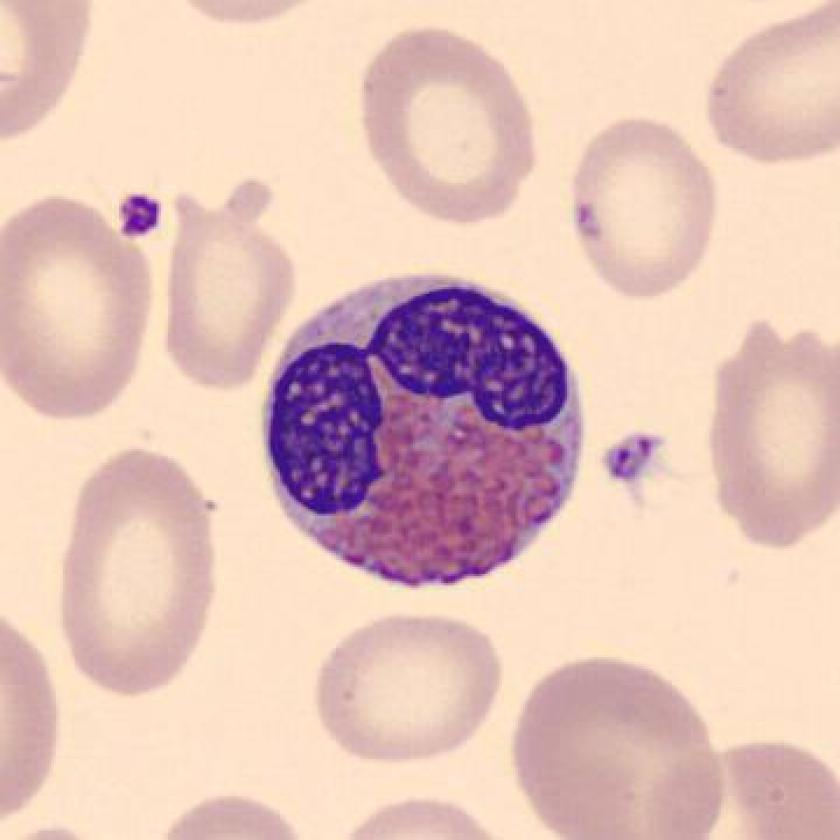eosinophil: (251, 263, 601, 603)
